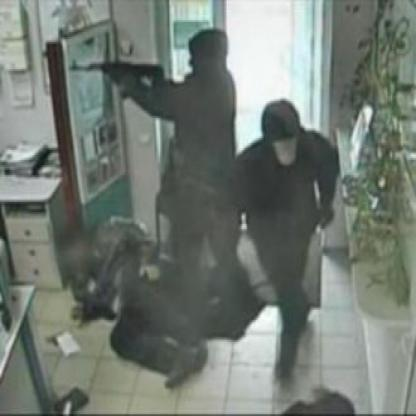al: (70, 54, 172, 99)
